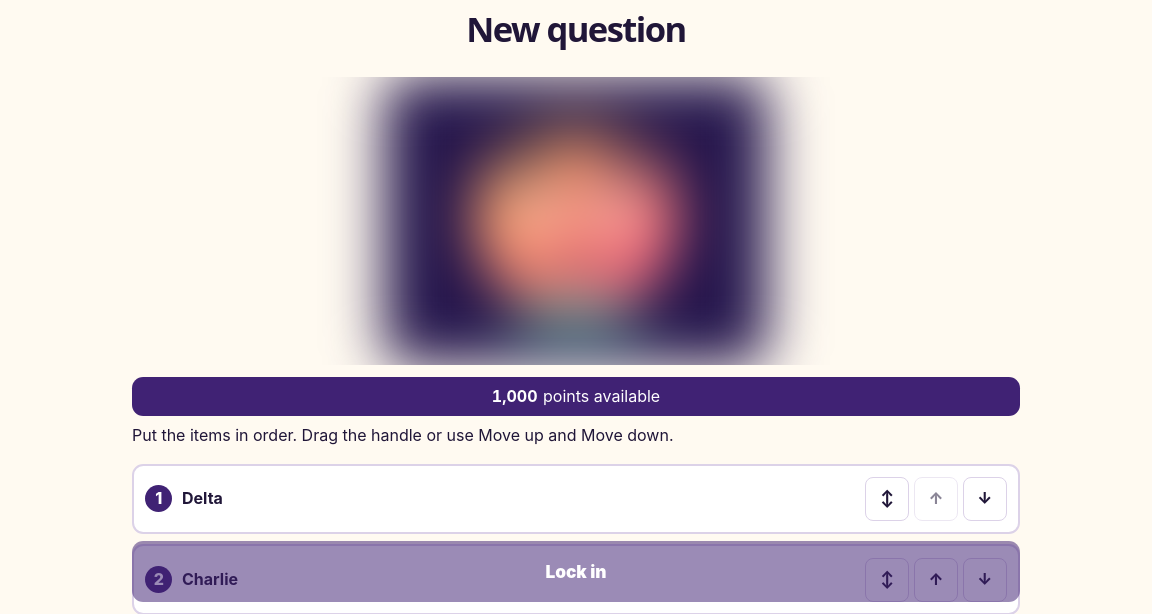
Scenario: keeps ordering draft and focus while local points change
Step 1. Click the button named "Move Delta down" → click(985, 499), box [963,477,1007,521]
Wait 10000 ms
(page scrolled)
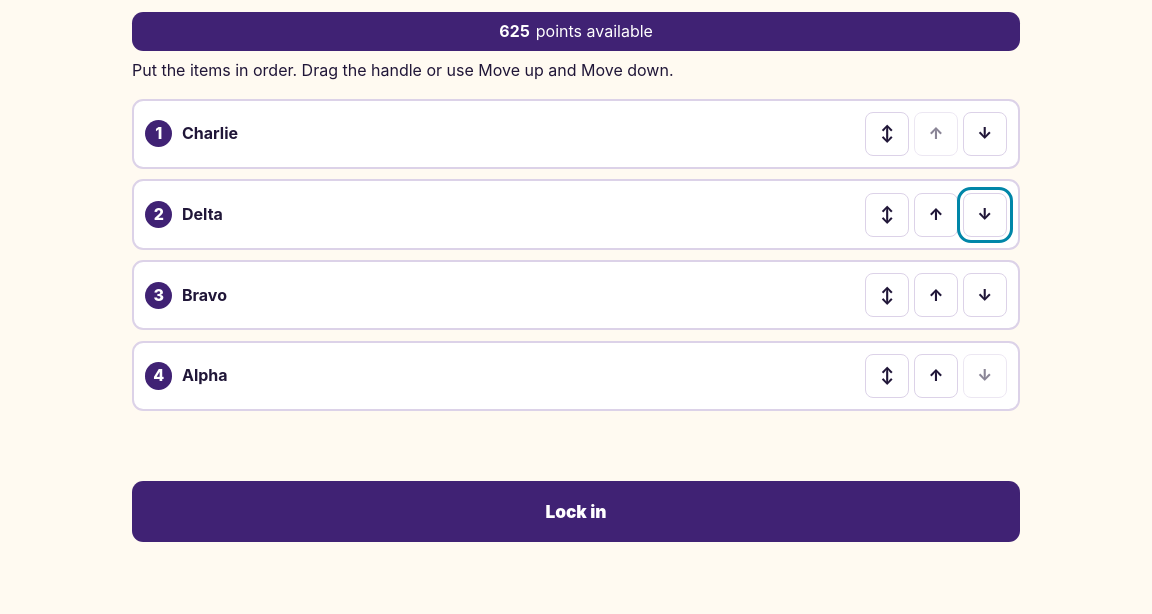
Expected: the button named "Move Delta down" is empty, [963,192,1007,236]
Expected: the element showing "625 points available" is shown, [132,12,1020,51]
